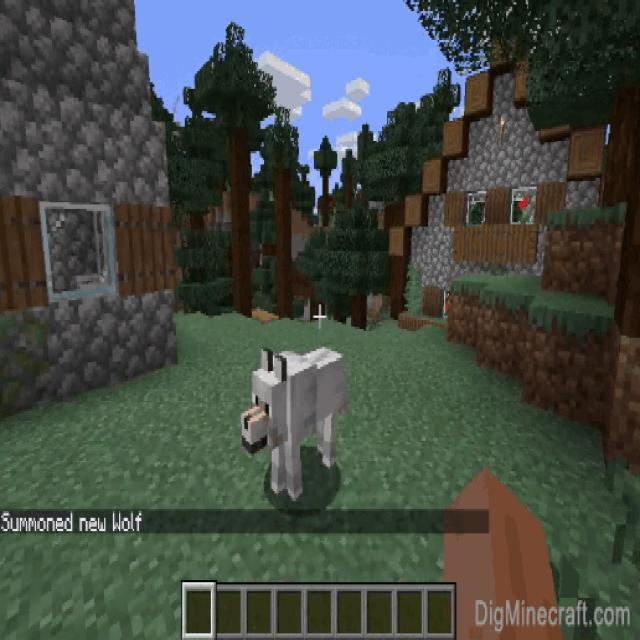Wolf: (239, 344, 345, 498)
